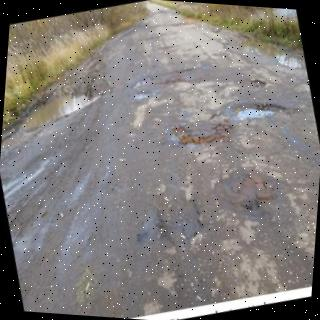pothole: (23, 83, 113, 128), (237, 37, 305, 69), (233, 102, 299, 121), (249, 78, 266, 90)
